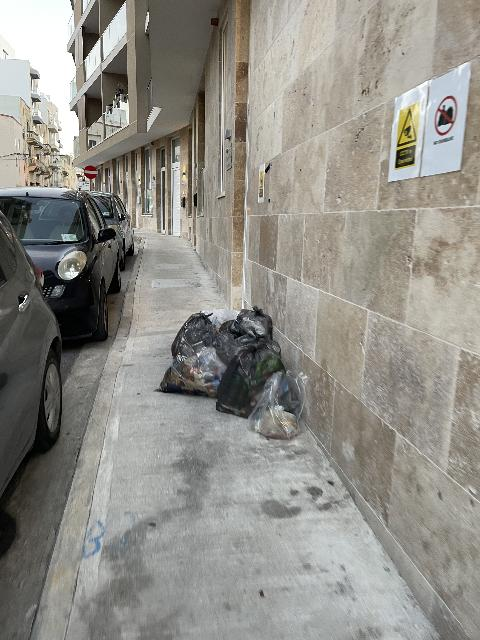Mixed -Black-: (216, 340, 286, 417), (172, 312, 215, 355)
Other: (210, 308, 238, 328)
Recyclable -Grey-: (248, 372, 305, 439), (161, 342, 226, 397), (213, 320, 243, 368), (229, 307, 272, 339)
